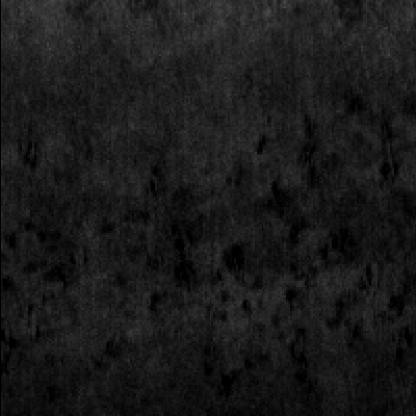rolled-in_scale: (92, 187, 412, 379)
